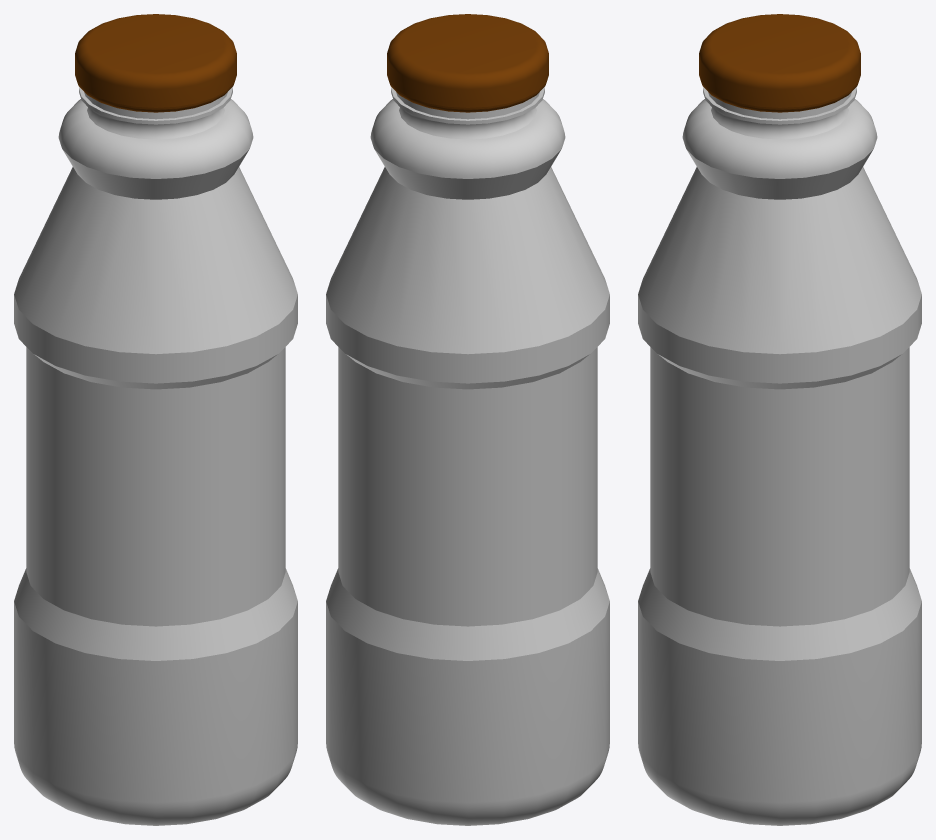
3 renders of one model, left to right at view 1: azimuth 30°, elevation 25°; view 2: azimuth 150°, elevation 25°; view 3: azimuth 270°, elevation 25°, orthographic.
Parts seen in each view (by area): view 1: mesh12_mesh12-geometry, mesh1_mesh1-geometry; view 2: mesh12_mesh12-geometry, mesh1_mesh1-geometry; view 3: mesh12_mesh12-geometry, mesh1_mesh1-geometry.
Boxes of the visible parts, x1,y1,x2,y2 form: mesh12_mesh12-geometry: (14, 87, 297, 825); mesh1_mesh1-geometry: (75, 14, 236, 112); mesh12_mesh12-geometry: (326, 87, 609, 825); mesh1_mesh1-geometry: (387, 14, 548, 112); mesh12_mesh12-geometry: (638, 87, 921, 825); mesh1_mesh1-geometry: (699, 14, 860, 112).
Size of the model in its own units: 0.3137 by 0.8962 by 0.3137.
